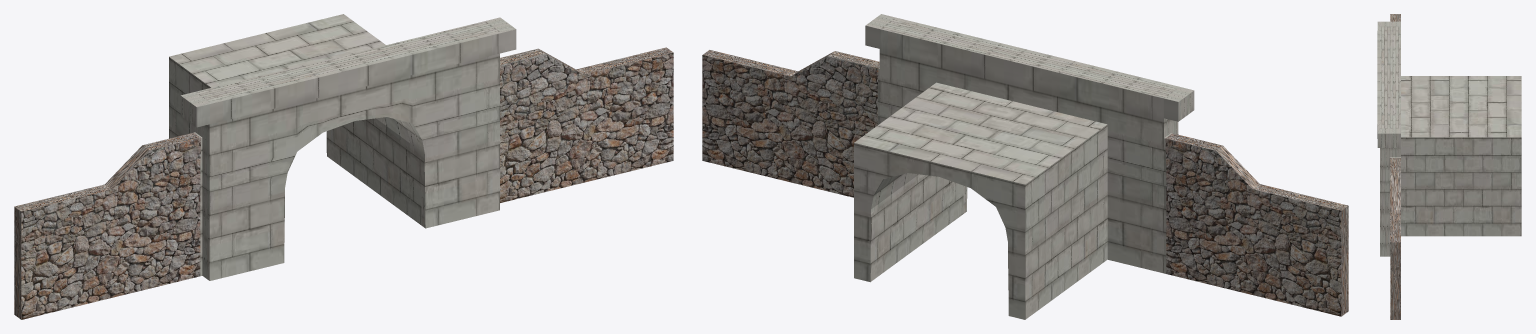
Rendered from tunnel.FBX.
3 renders of one model, left to right at view 1: azimuth 30°, elevation 25°; view 2: azimuth 150°, elevation 25°; view 3: azimuth 270°, elevation 25°, orthographic. The views are drawn at different scales.
Parts seen in each view (by area): view 1: túnel, parede2, parede1; view 2: túnel, parede2, parede1; view 3: túnel, parede1.
Part boxes in pixels (x1,y1,x2,y2): túnel: (169,14,516,280); parede2: (14,132,200,319); parede1: (500,47,673,202); túnel: (854,14,1194,319); parede2: (1165,133,1348,316); parede1: (702,50,879,197); túnel: (1377,21,1521,256); parede1: (1390,158,1400,319).
Bounding box in the file's own units: 552 × 145 × 147.
2 materials, 2 textured.
